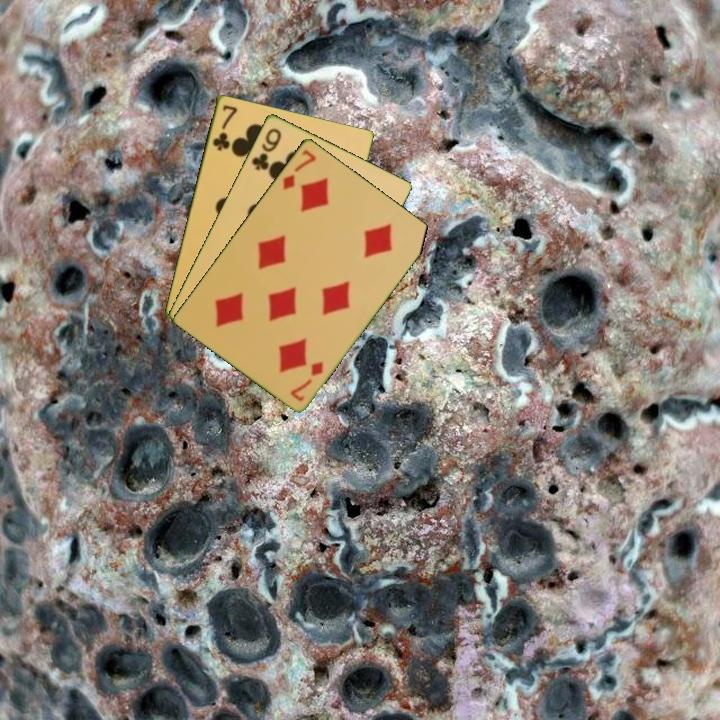7c: (209, 101, 240, 154)
7d: (279, 145, 319, 193), (287, 357, 326, 404)
9c: (248, 124, 284, 173)
